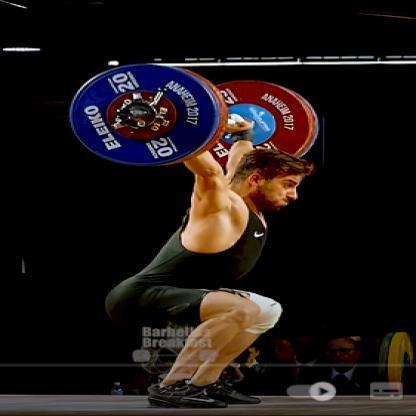barbell: (67, 61, 321, 170)
